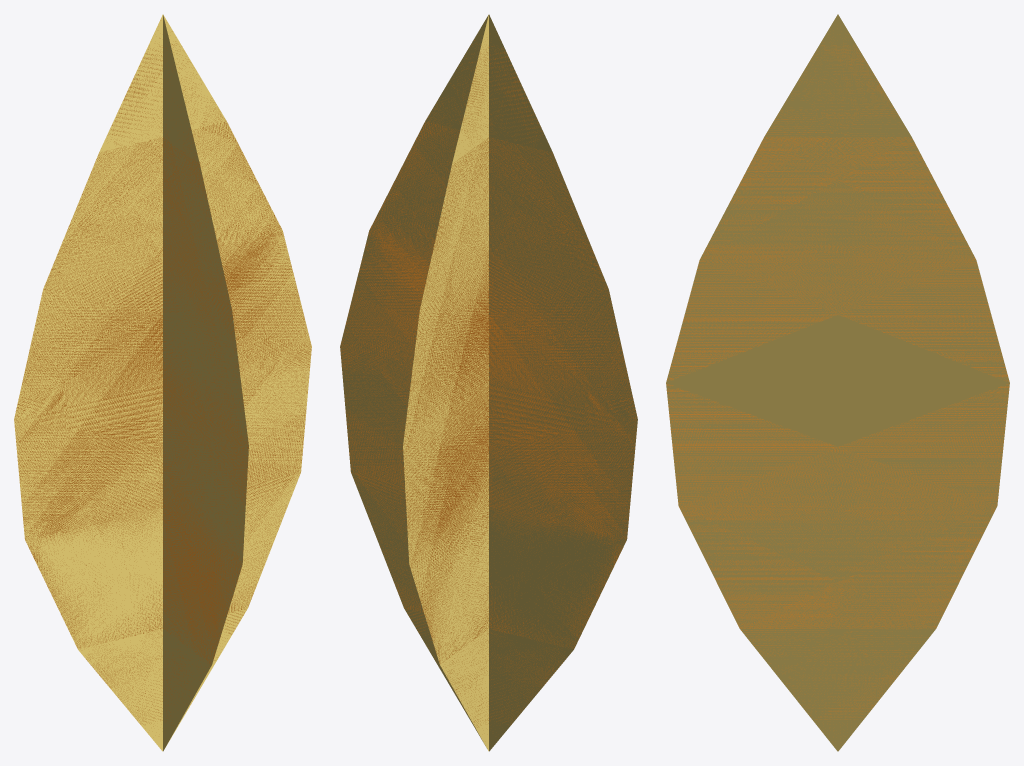
Rendered from flame.obj.
The picture shows the model from 3 angles, left to right: view 1: azimuth 30°, elevation 25°; view 2: azimuth 150°, elevation 25°; view 3: azimuth 270°, elevation 25°; orthographic projection.
Visible parts, largest first — view 1: flame; view 2: flame; view 3: flame.
Boxes of the visible parts, x1=… form: flame: x1=14, y1=14, x2=311, y2=751; flame: x1=340, y1=14, x2=637, y2=751; flame: x1=666, y1=14, x2=1009, y2=751.
Bounding box in the file's own units: 0.528 × 1.25 × 0.528.
